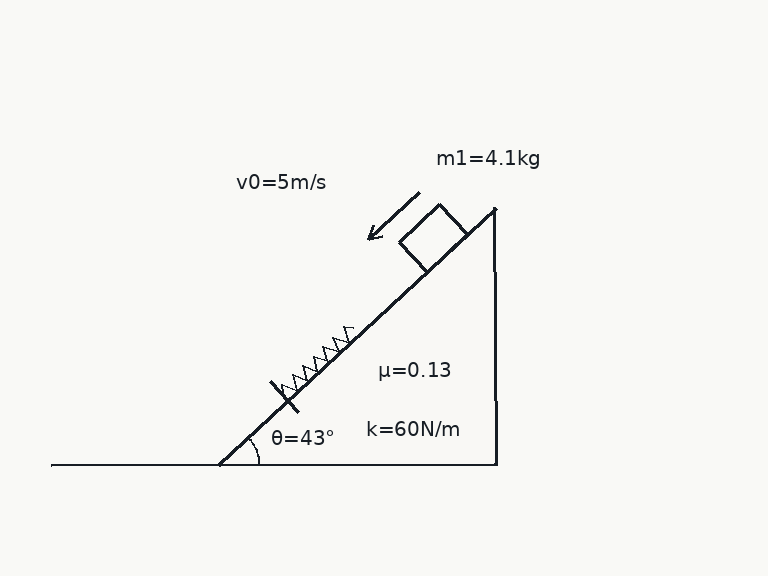block: (397, 202, 469, 274)
ramp: (217, 205, 497, 467)
spring: (280, 325, 356, 396)
